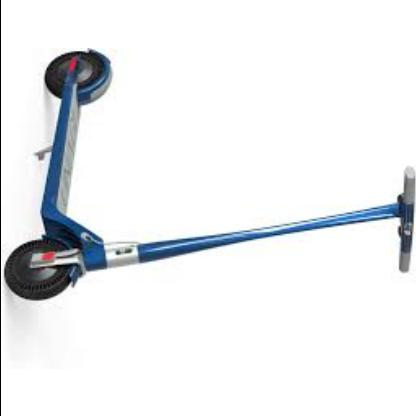bike: (5, 48, 412, 302)
